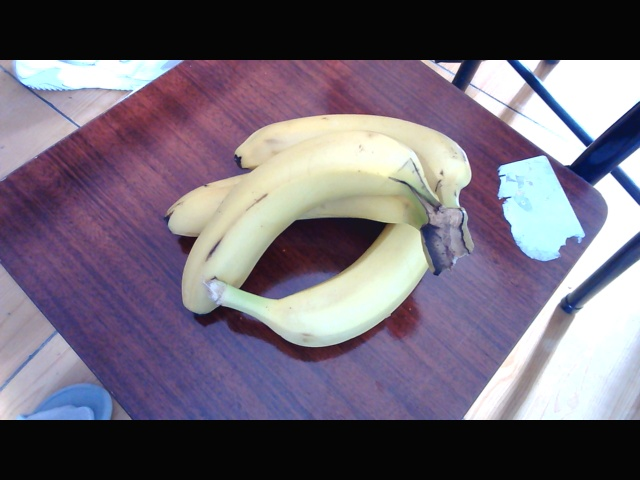banana: (183, 116, 476, 358)
